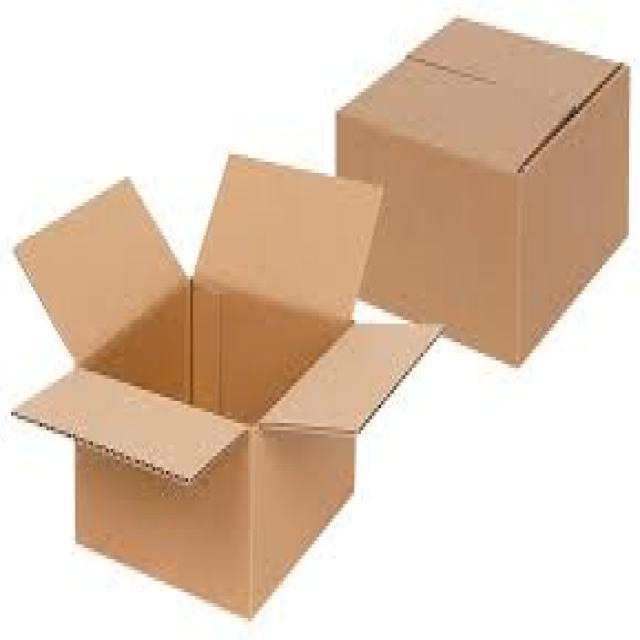Cardboard: (12, 154, 440, 614)
